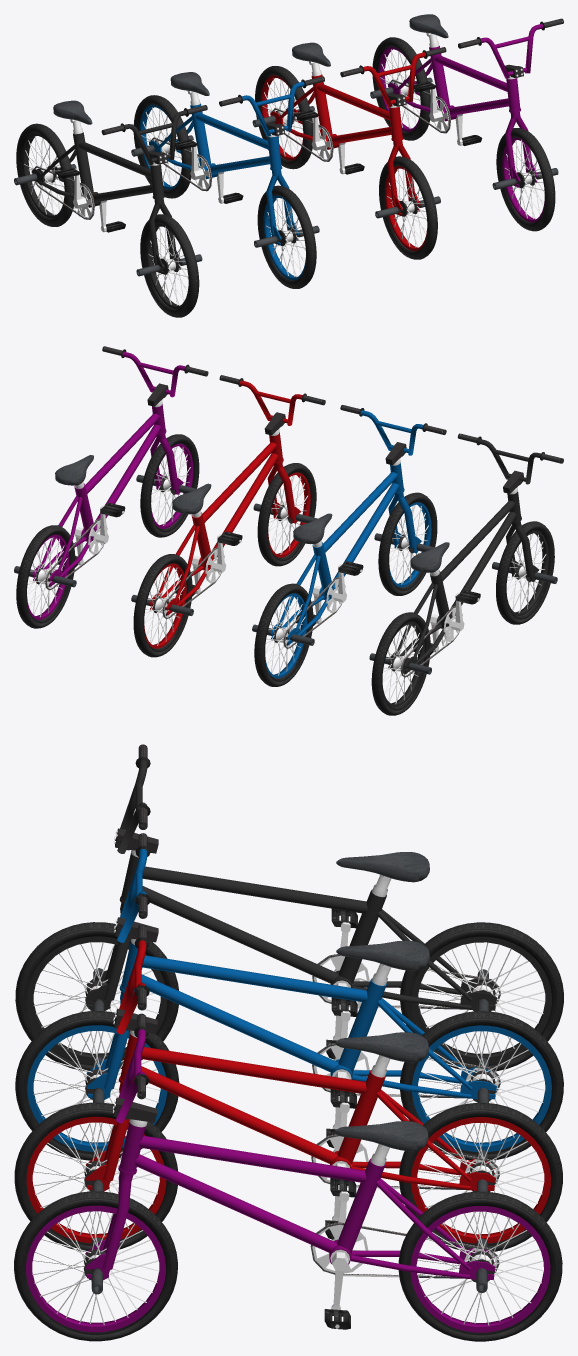
3 renders of one model, top to bottom at view 1: azimuth 30°, elevation 25°; view 2: azimuth 150°, elevation 25°; view 3: azimuth 270°, elevation 25°, orthographic. The views are drawn at different scales.
Visible parts, largest first — view 1: Front Wheel.002_61, Front Wheel_39, Front Wheel.001_83, Front Wheel.003_17, Back Wheel.003_12, Frameset.001_0, Frameset.002_66, Frameset_22, Frameset.003_44, Back Wheel.001_78, Back Wheel.002_56, Back Wheel_34 (+12 smaller); view 2: Frameset_22, Frameset.003_44, Frameset.002_66, Frameset.001_0, Back Wheel.003_12, Front Wheel.003_17, Back Wheel.002_56, Back Wheel.001_78, Back Wheel_34, Front Wheel.001_83, Front Wheel.002_61, Front Wheel_39 (+12 smaller); view 3: Frameset.003_44, Back Wheel.002_56, Front Wheel.002_61, Frameset_22, Frameset.001_0, Frameset.002_66, Back Wheel_34, Back Wheel.001_78, Back Wheel.003_12, Front Wheel.001_83, Front Wheel_39, Front Wheel.003_17 (+13 smaller).
Part boxes in pixels (left/top/right/bottom): Front Wheel.002_61: left=496, top=128, right=555, bottom=231; Front Wheel_39: left=257, top=185, right=316, bottom=288; Front Wheel.001_83: left=379, top=156, right=437, bottom=259; Front Wheel.003_17: left=140, top=214, right=199, bottom=317; Back Wheel.003_12: left=16, top=123, right=74, bottom=226; Frameset.001_0: left=31, top=132, right=163, bottom=207; Frameset.002_66: left=270, top=74, right=402, bottom=149; Frameset_22: left=149, top=103, right=281, bottom=179; Frameset.003_44: left=387, top=46, right=520, bottom=121; Back Wheel.001_78: left=255, top=66, right=312, bottom=169; Back Wheel.002_56: left=372, top=37, right=430, bottom=140; Back Wheel_34: left=133, top=95, right=191, bottom=198; Frameset_22: left=270, top=462, right=403, bottom=645; Frameset.003_44: left=32, top=404, right=165, bottom=586; Frameset.002_66: left=149, top=432, right=282, bottom=615; Frameset.001_0: left=388, top=491, right=521, bottom=673; Back Wheel.003_12: left=371, top=612, right=430, bottom=715; Front Wheel.003_17: left=496, top=521, right=554, bottom=624; Back Wheel.002_56: left=16, top=525, right=75, bottom=628; Back Wheel.001_78: left=133, top=554, right=192, bottom=657; Back Wheel_34: left=254, top=583, right=313, bottom=686; Front Wheel.001_83: left=257, top=463, right=316, bottom=566; Front Wheel.002_61: left=140, top=434, right=199, bottom=537; Front Wheel_39: left=378, top=492, right=437, bottom=595; Frameset.003_44: left=119, top=1122, right=495, bottom=1279; Back Wheel.002_56: left=398, top=1191, right=562, bottom=1341; Front Wheel.002_61: left=14, top=1191, right=177, bottom=1341; Frameset_22: left=121, top=942, right=496, bottom=1099; Frameset.001_0: left=121, top=853, right=496, bottom=1010; Frameset.002_66: left=120, top=1033, right=495, bottom=1190; Back Wheel_34: left=400, top=1011, right=563, bottom=1160; Back Wheel.001_78: left=399, top=1102, right=562, bottom=1251; Back Wheel.003_12: left=400, top=922, right=563, bottom=1071; Front Wheel.001_83: left=14, top=1102, right=177, bottom=1251; Front Wheel_39: left=15, top=1011, right=179, bottom=1160; Front Wheel.003_17: left=15, top=922, right=178, bottom=1071.
Bounding box in the file's own units: 8.27 × 3.23 × 5.54.
Materials: 10 (4 with a texture image).
